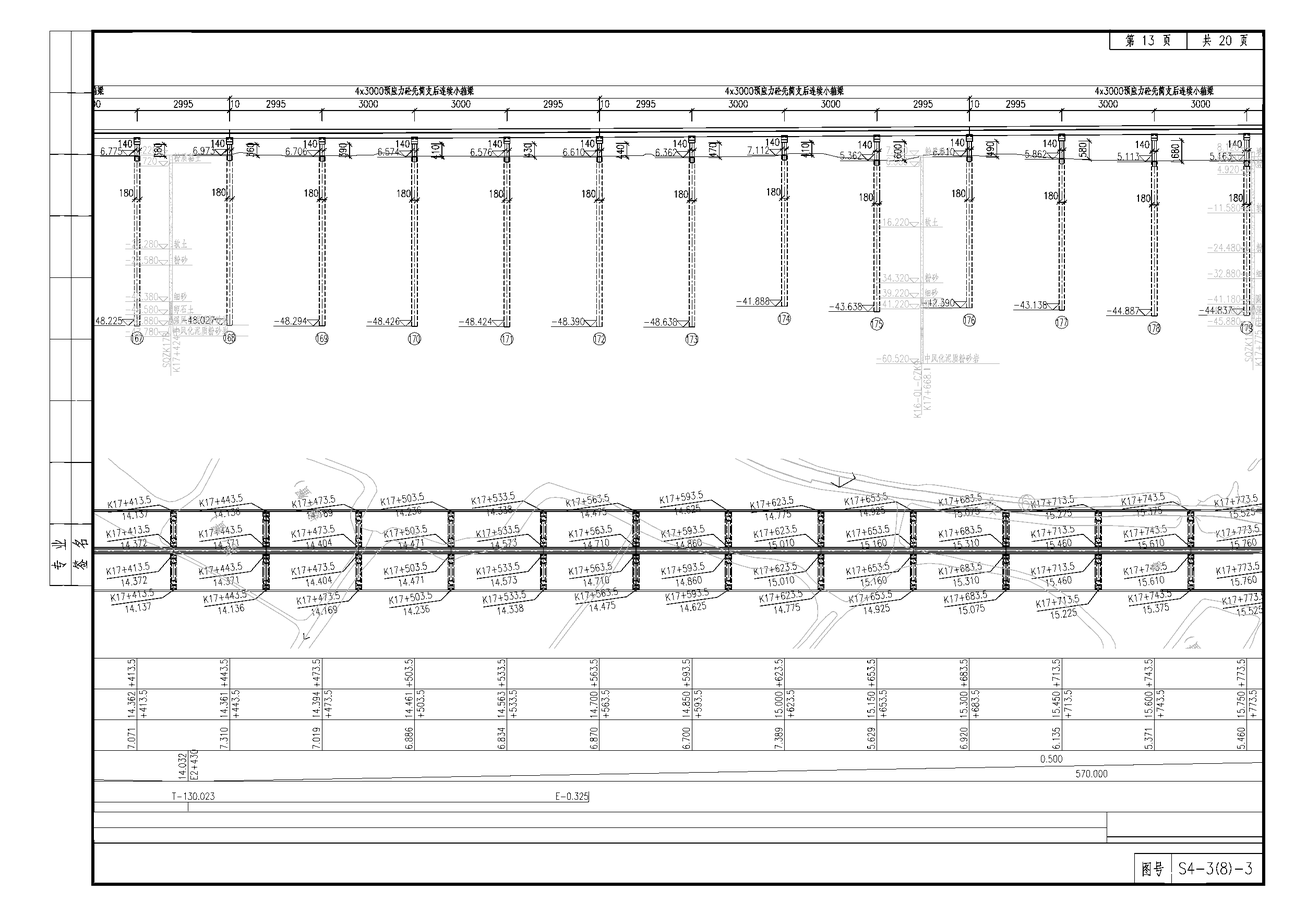A: (91, 63, 1268, 383)
